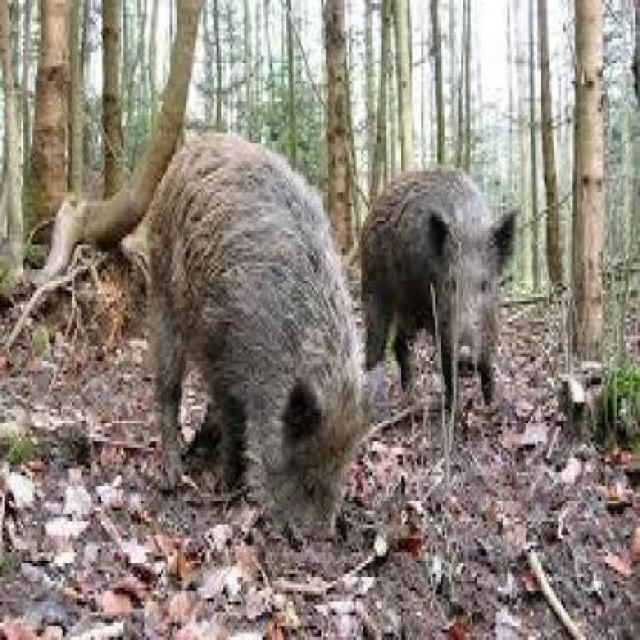wildboar: (140, 125, 389, 548), (352, 161, 522, 427)
